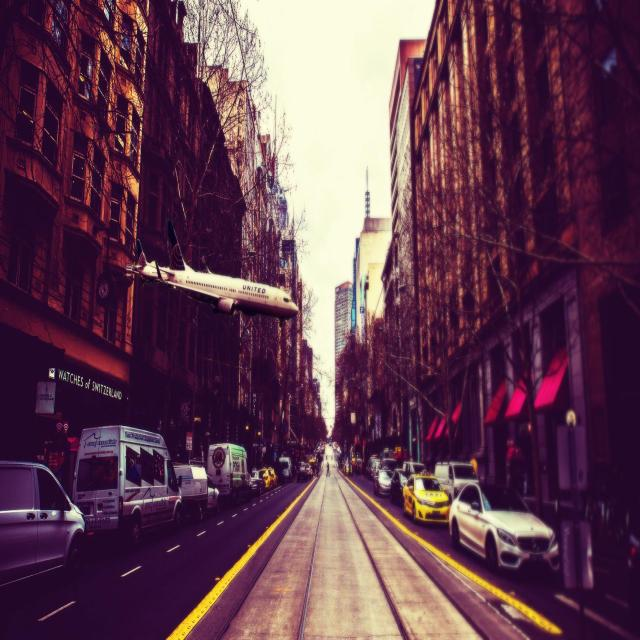airplane: (125, 218, 299, 327)
